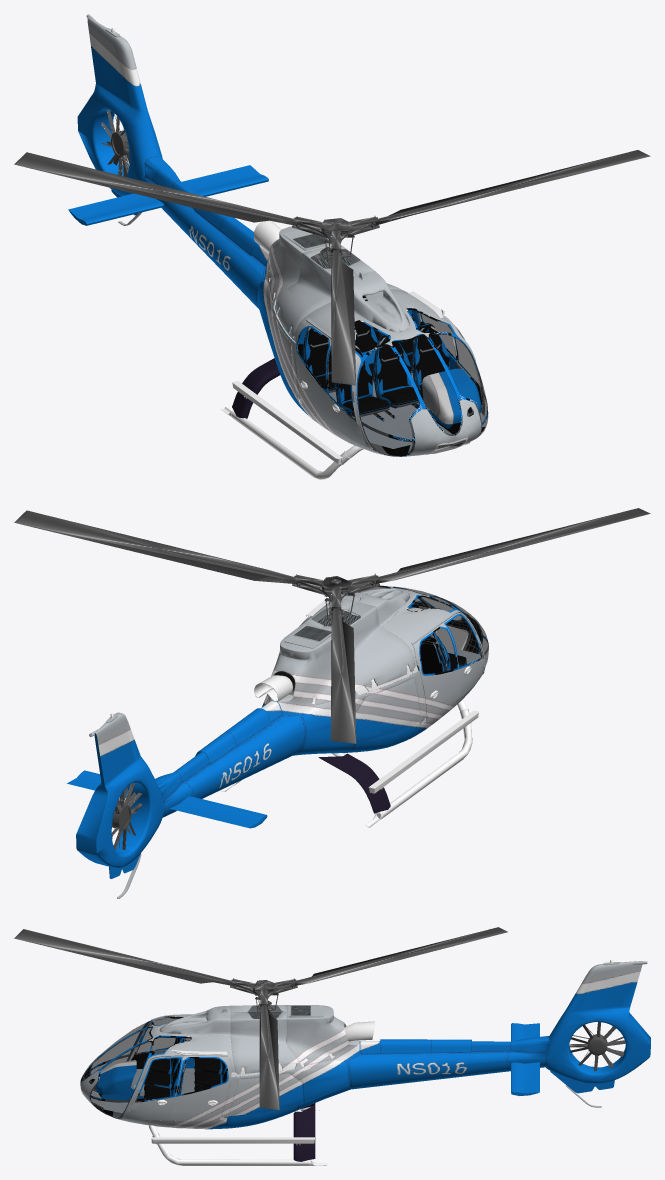
Rendered from helicopter.glb.
The picture shows the model from 3 angles, top to bottom: view 1: azimuth 30°, elevation 25°; view 2: azimuth 150°, elevation 25°; view 3: azimuth 270°, elevation 25°; orthographic projection. The views are drawn at different scales.
Parts seen in each view (by area): view 1: helicopter.Shape_body_0_9, helicopter.Shape_glass_0_10, helicopter.Shape_elise_0_11, helicopter.Shape_interior_0_8, helicopter.Shape_black_0_7, helicopter.Shape_rotor_0_12; view 2: helicopter.Shape_body_0_9, helicopter.Shape_elise_0_11, helicopter.Shape_black_0_7, helicopter.Shape_glass_0_10, helicopter.Shape_interior_0_8, helicopter.Shape_rotor_0_12; view 3: helicopter.Shape_body_0_9, helicopter.Shape_elise_0_11, helicopter.Shape_glass_0_10, helicopter.Shape_black_0_7, helicopter.Shape_interior_0_8, helicopter.Shape_rotor_0_12.
Boxes of the visible parts, <box> form: helicopter.Shape_body_0_9: <box>68,14,488,456</box>; helicopter.Shape_glass_0_10: <box>297,309,487,456</box>; helicopter.Shape_elise_0_11: <box>14,150,650,385</box>; helicopter.Shape_interior_0_8: <box>302,321,449,421</box>; helicopter.Shape_black_0_7: <box>111,28,469,479</box>; helicopter.Shape_rotor_0_12: <box>100,110,129,176</box>; helicopter.Shape_body_0_9: <box>67,585,488,898</box>; helicopter.Shape_elise_0_11: <box>14,508,650,743</box>; helicopter.Shape_black_0_7: <box>89,594,478,827</box>; helicopter.Shape_glass_0_10: <box>360,585,488,673</box>; helicopter.Shape_interior_0_8: <box>420,632,466,673</box>; helicopter.Shape_rotor_0_12: <box>111,782,141,850</box>; helicopter.Shape_body_0_9: <box>80,961,650,1161</box>; helicopter.Shape_elise_0_11: <box>14,927,507,1109</box>; helicopter.Shape_glass_0_10: <box>81,1017,226,1117</box>; helicopter.Shape_black_0_7: <box>80,959,647,1165</box>; helicopter.Shape_interior_0_8: <box>144,1038,226,1100</box>; helicopter.Shape_rotor_0_12: <box>569,1022,625,1071</box>.
Bounding box in the file's own units: 7.28 × 3.31 × 10.7.
6 materials, 4 textured.
